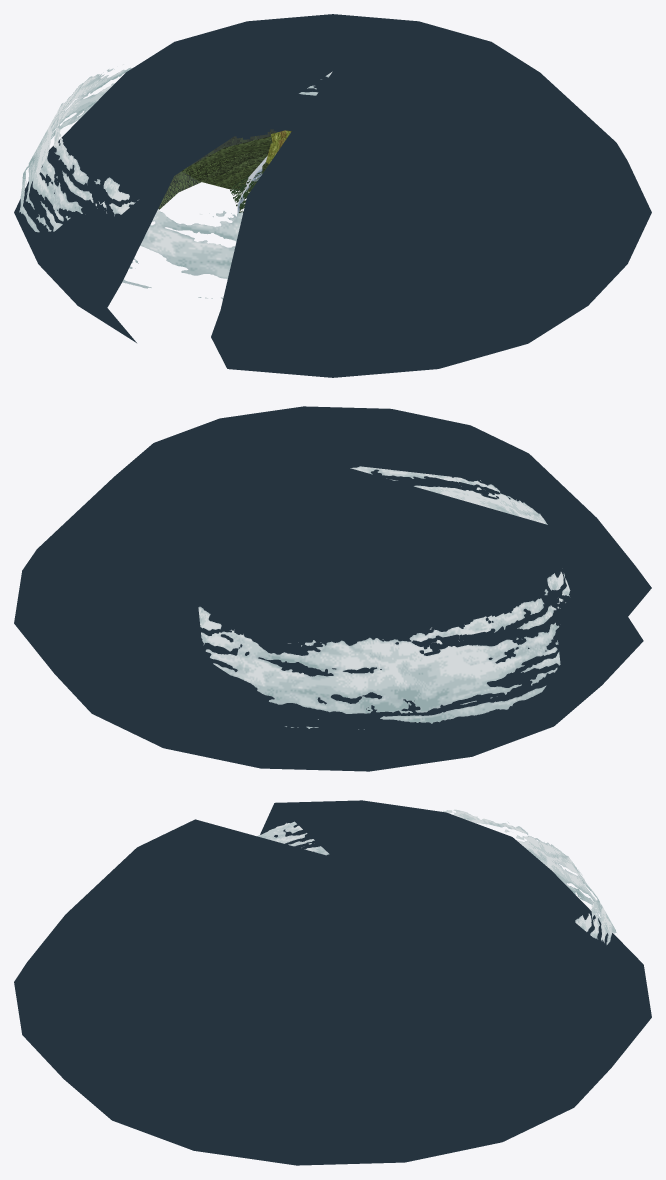
The picture shows the model from 3 angles, top to bottom: view 1: azimuth 30°, elevation 25°; view 2: azimuth 150°, elevation 25°; view 3: azimuth 270°, elevation 25°; orthographic projection.
Size of the model in its own units: 127243 by 42157 by 127241.
Materials: 32 (32 with a texture image).
